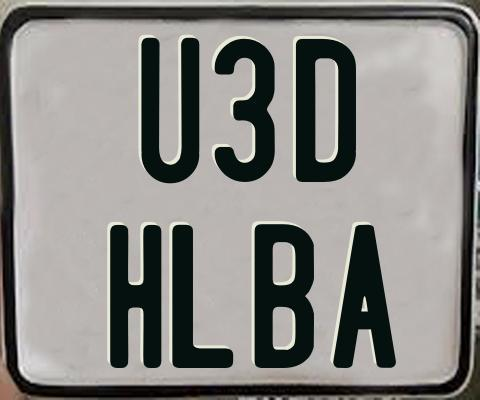3: (213, 36, 273, 183)
A: (331, 225, 398, 369)
B: (252, 224, 313, 371)
D: (296, 37, 361, 183)
H: (108, 224, 165, 373)
L: (170, 222, 233, 365)
U: (139, 37, 200, 184)
